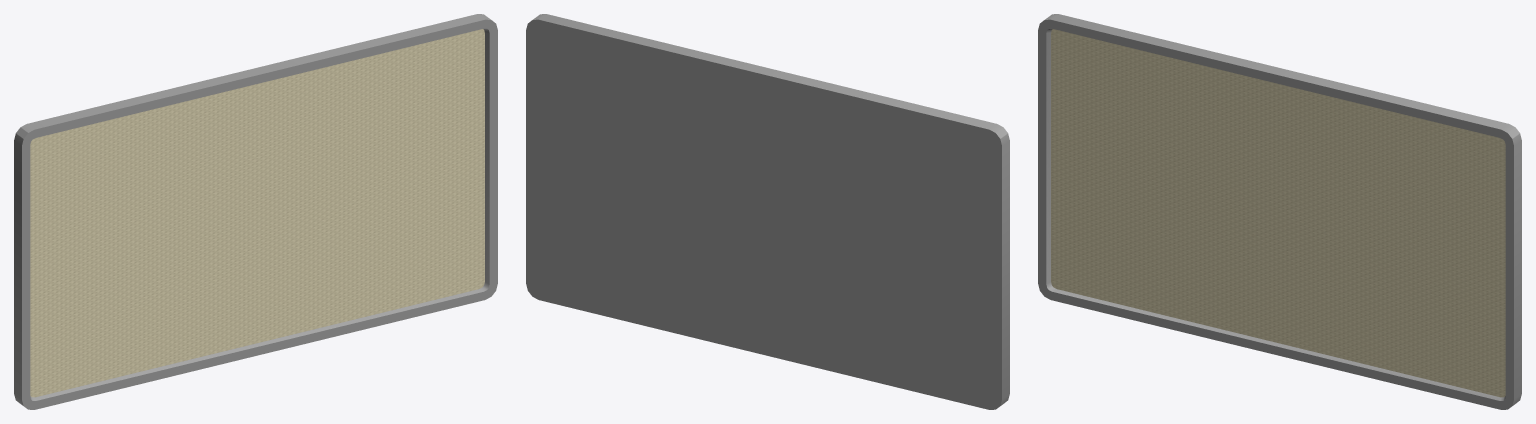
File: planboardV2.fbx
The picture shows the model from 3 angles, left to right: view 1: azimuth 30°, elevation 25°; view 2: azimuth 150°, elevation 25°; view 3: azimuth 330°, elevation 25°; orthographic projection.
Visible parts, largest first — view 1: Board; view 2: Board; view 3: Board.
Part boxes in pixels (x1,y1,x2,y2): Board: (14,14,497,409); Board: (526,14,1009,409); Board: (1038,14,1521,409).
Bounding box in the file's own units: 355 × 200 × 10.13.
